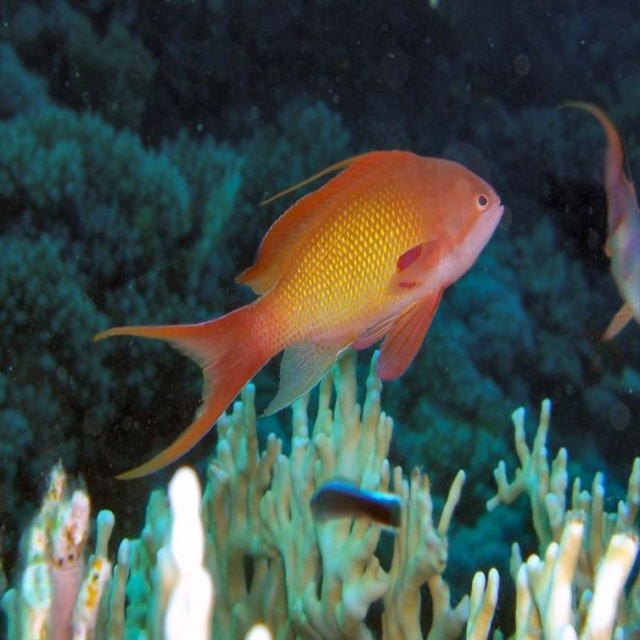Goldfish: (101, 147, 501, 486)
